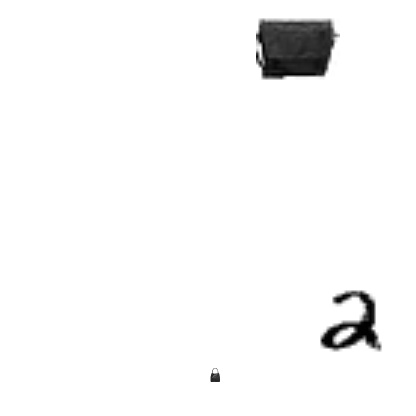3: (97, 263, 139, 305), (90, 12, 112, 34)
4: (296, 126, 338, 168)
5: (385, 119, 399, 133)
6: (11, 146, 123, 258)
9: (271, 78, 285, 92)
Sandal: (186, 56, 242, 112)
Shirt: (291, 45, 319, 73)
Sneaker: (63, 41, 175, 153)
